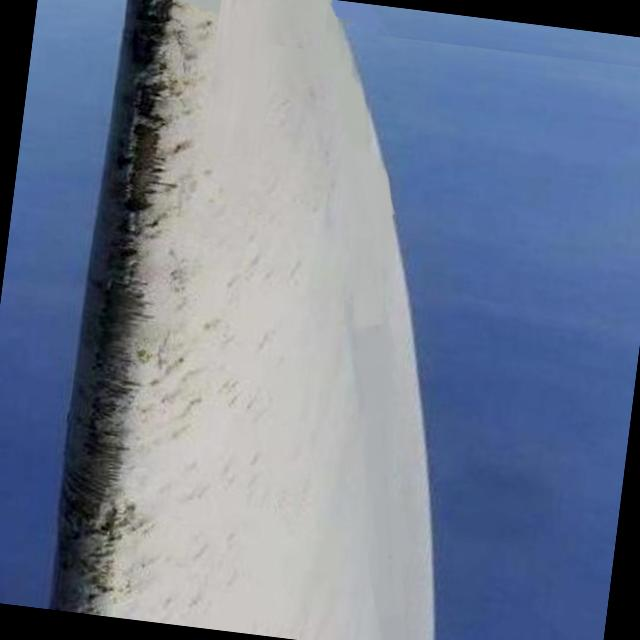corrosion: (48, 0, 198, 613)
